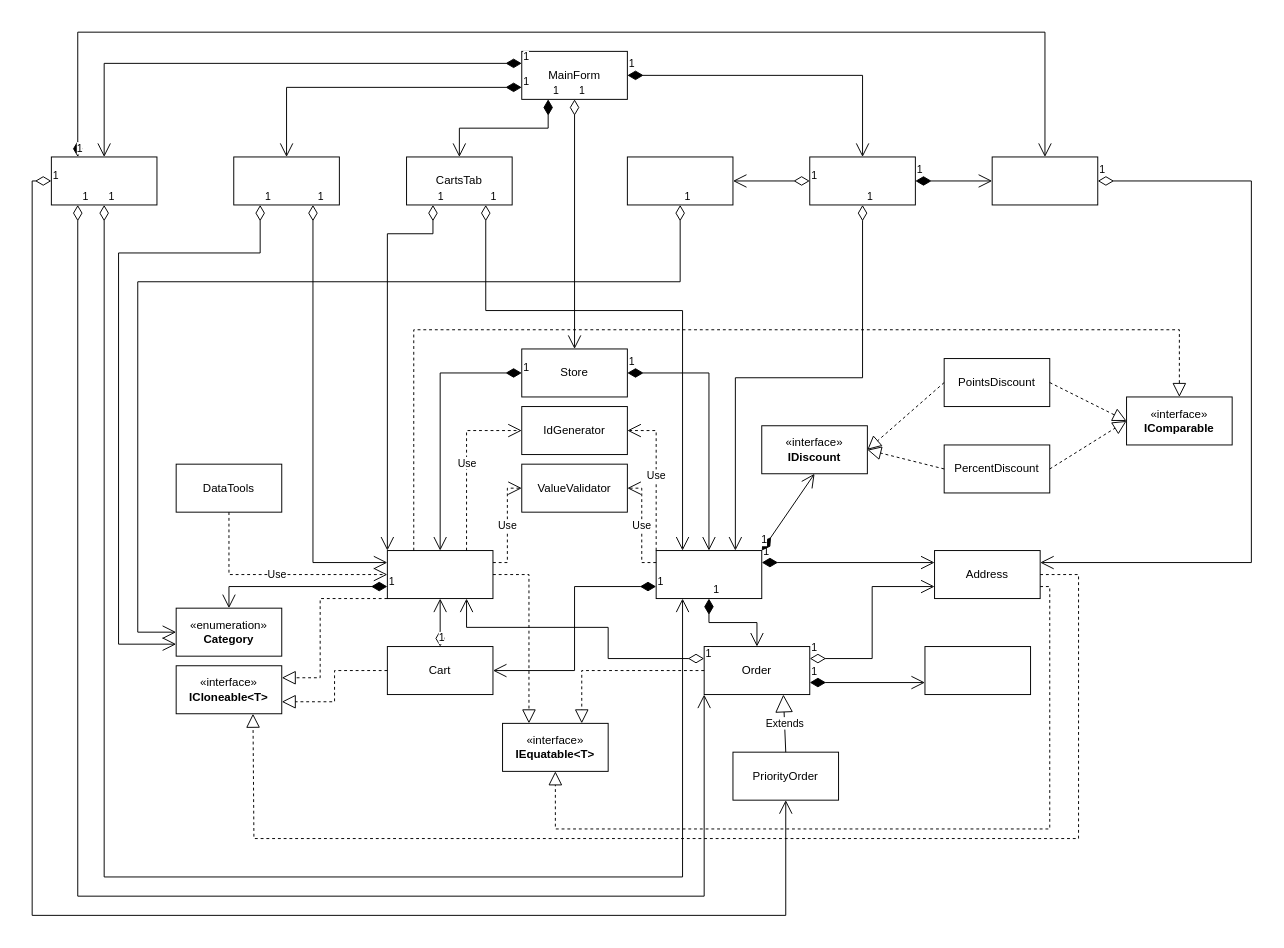
The diagram is 1284 pixels wide and 948 high, and some of its shapes have lost their labels. Each missing label, with the box of its shape:
AddDiscountForm: (626, 156, 733, 205)
AddressControl: (991, 156, 1098, 205)
Customer: (655, 550, 762, 599)
CustomersTab: (809, 156, 915, 205)
Item: (386, 550, 493, 599)
ItemsTab: (233, 156, 339, 205)
OrdersTab: (50, 156, 157, 205)
«enumeration» OrderStatus: (924, 646, 1031, 695)
